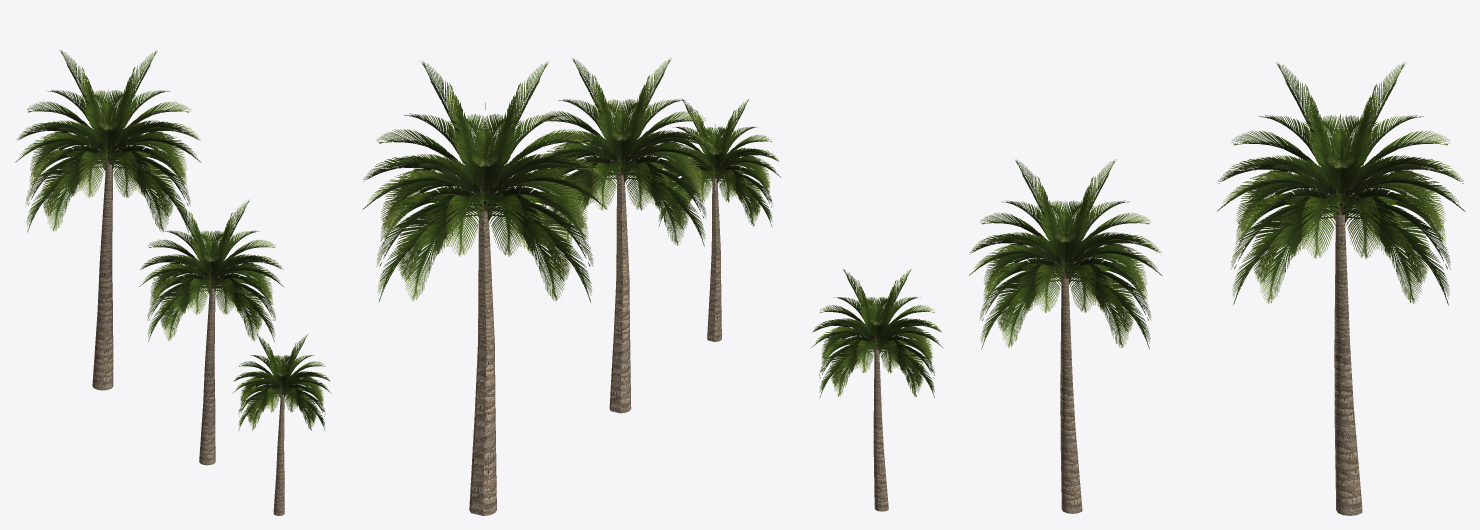
The model's file is Pum tree.fbx.
3 renders of one model, left to right at view 1: azimuth 30°, elevation 25°; view 2: azimuth 150°, elevation 25°; view 3: azimuth 270°, elevation 25°, orthographic. The views are drawn at different scales.
Parts seen in each view (by area): view 1: Pum_tree2, Pum_tree1, Pum_tree; view 2: Pum_tree2, Pum_tree1, Pum_tree; view 3: Pum_tree2, Pum_tree1, Pum_tree.
Part boxes in pixels (bbox=[...]): Pum_tree2: bbox=[15, 50, 201, 390]; Pum_tree1: bbox=[139, 199, 284, 465]; Pum_tree: bbox=[232, 334, 331, 515]; Pum_tree2: bbox=[362, 61, 607, 515]; Pum_tree1: bbox=[527, 58, 717, 413]; Pum_tree: bbox=[656, 99, 781, 341]; Pum_tree2: bbox=[1216, 62, 1465, 515]; Pum_tree1: bbox=[969, 159, 1162, 513]; Pum_tree: bbox=[811, 269, 943, 511].
Bounding box in the file's own units: 2578 × 4320 × 5873.
